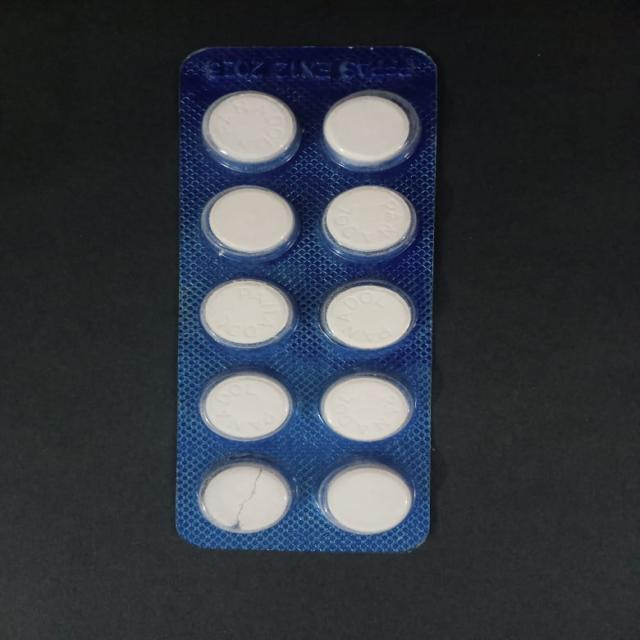defect: (195, 459, 295, 536)
